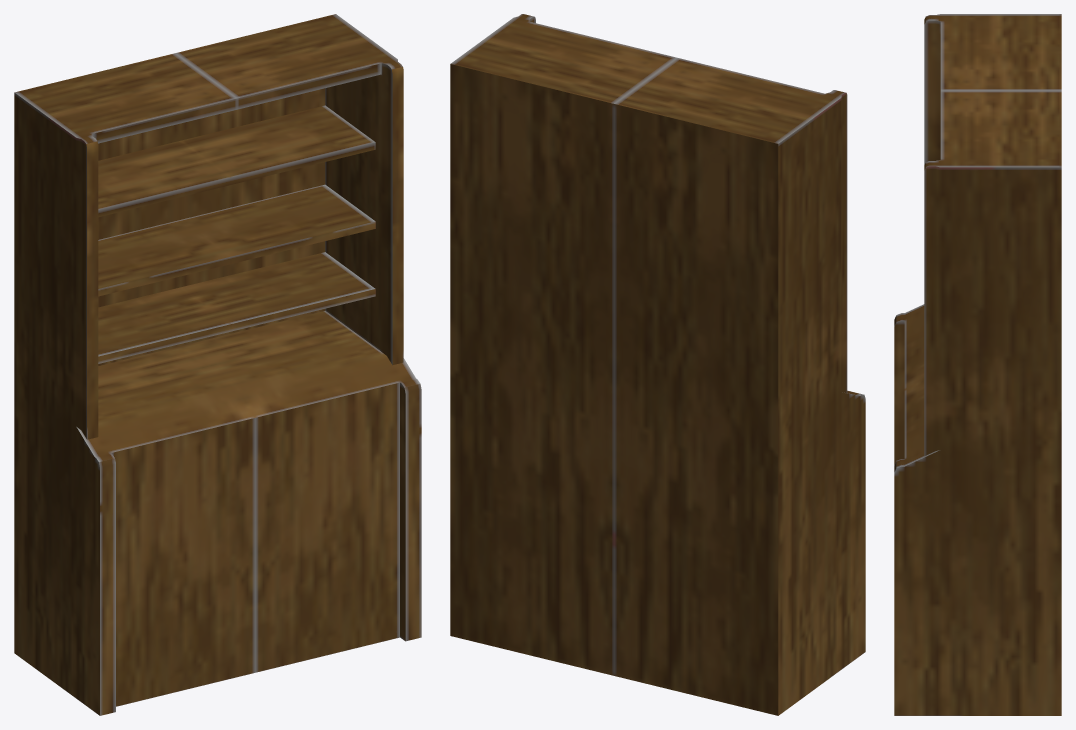
File: shelf.glb
3 views of the same model, side by side, from view 1: azimuth 30°, elevation 25°; view 2: azimuth 150°, elevation 25°; view 3: azimuth 270°, elevation 25° (orthographic). The views are drawn at different scales.
Parts seen in each view (by area): view 1: Cube.003; view 2: Cube.003; view 3: Cube.003.
Boxes of the visible parts, x1,y1,x2,y2 form: Cube.003: [14, 14, 421, 715]; Cube.003: [450, 14, 865, 715]; Cube.003: [894, 14, 1061, 715].
Bounding box in the file's own units: 1.2 × 2 × 0.5535.
Materials: 1 (1 with a texture image).
